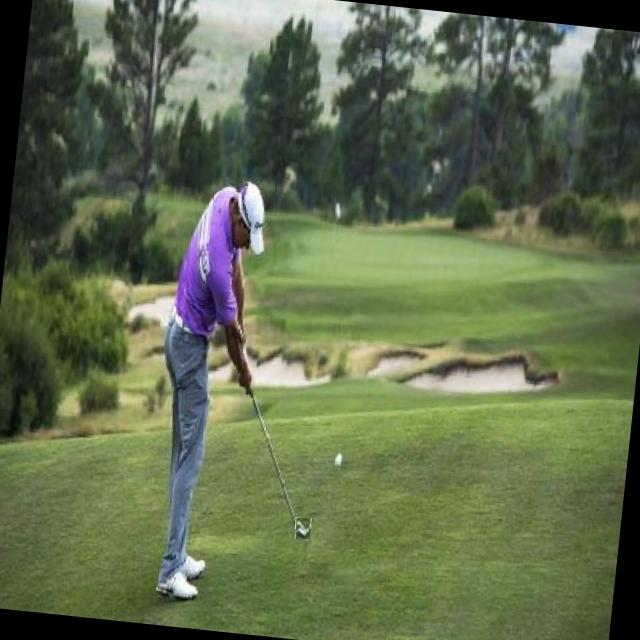club head: (294, 517, 311, 540)
